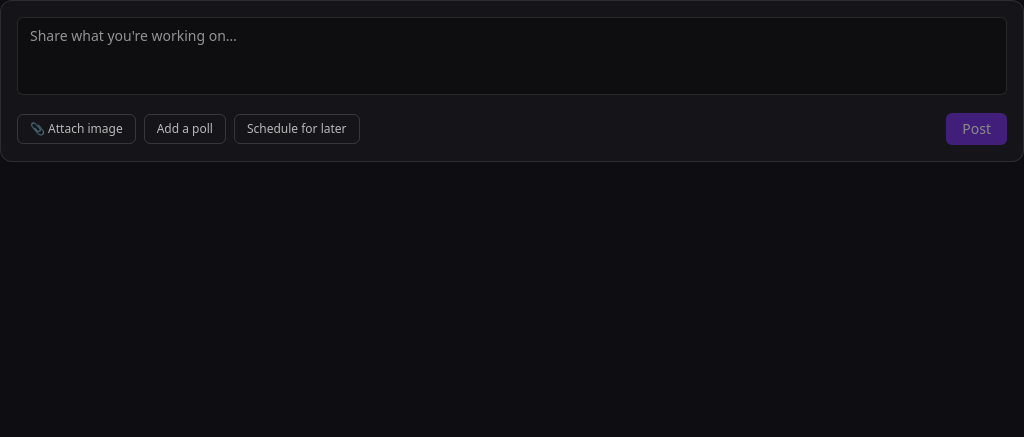
Test: PostComposer: polls › allows up to four options, and removing one
Click the button "Add a poll": point(185, 129) [144,114,226,144]
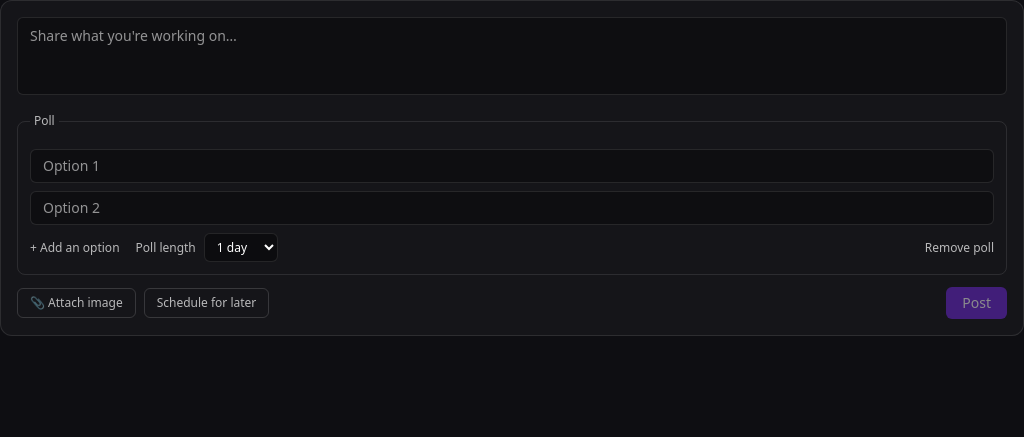
Click the button "+ Add an option": point(75, 248) [30,240,120,256]
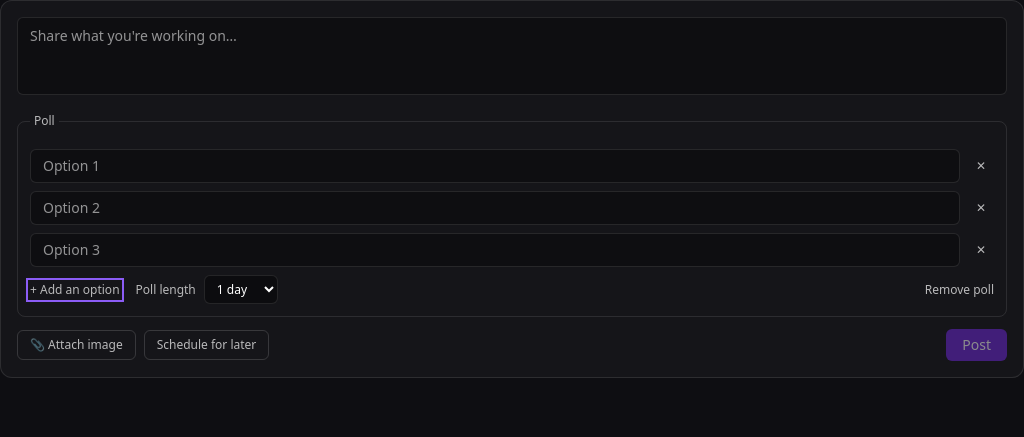
Click the button "+ Add an option": point(75, 290) [30,282,120,298]
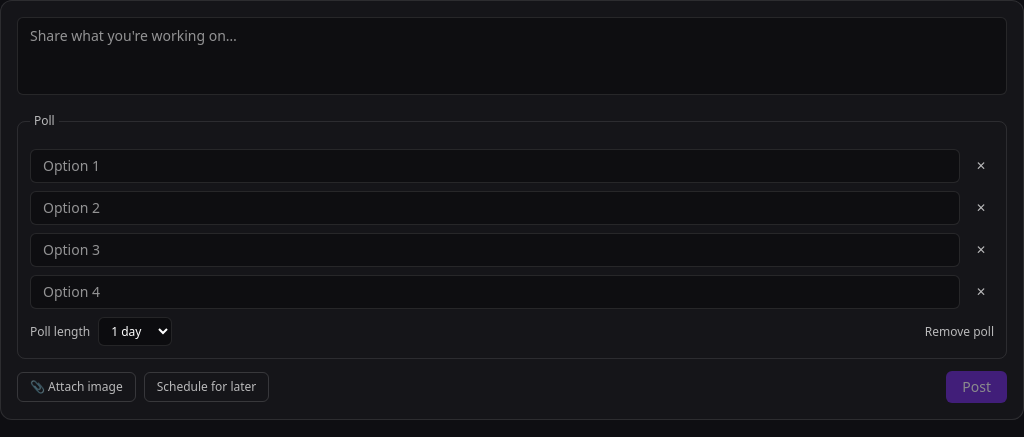
Expected: the number of fields labelled "Option 1" is 4, [30,149,960,183]; [30,191,960,225]; [30,233,960,267]; [30,275,960,309]
Expected: the button "+ Add an option" is gone
Click the button named "Remove option 3": point(981, 250) [968,238,994,262]
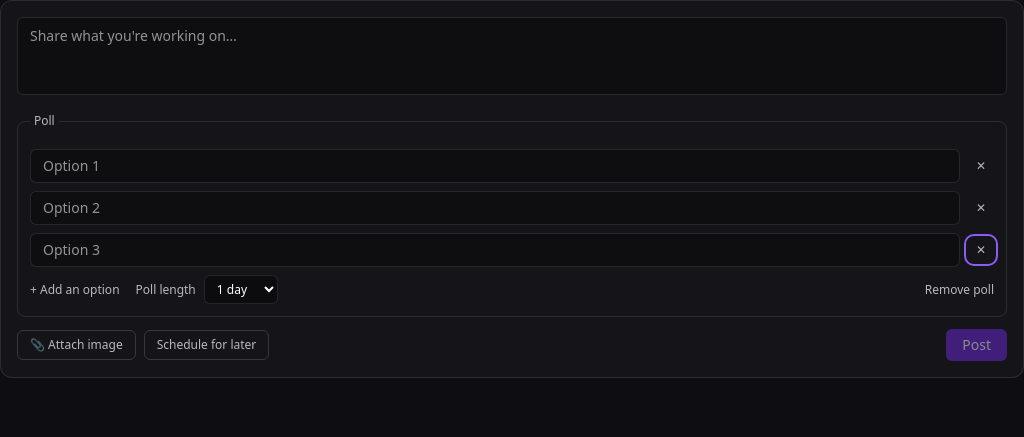
Expected: the number of fields labelled "Option 1" is 3, [30,149,960,183]; [30,191,960,225]; [30,233,960,267]
